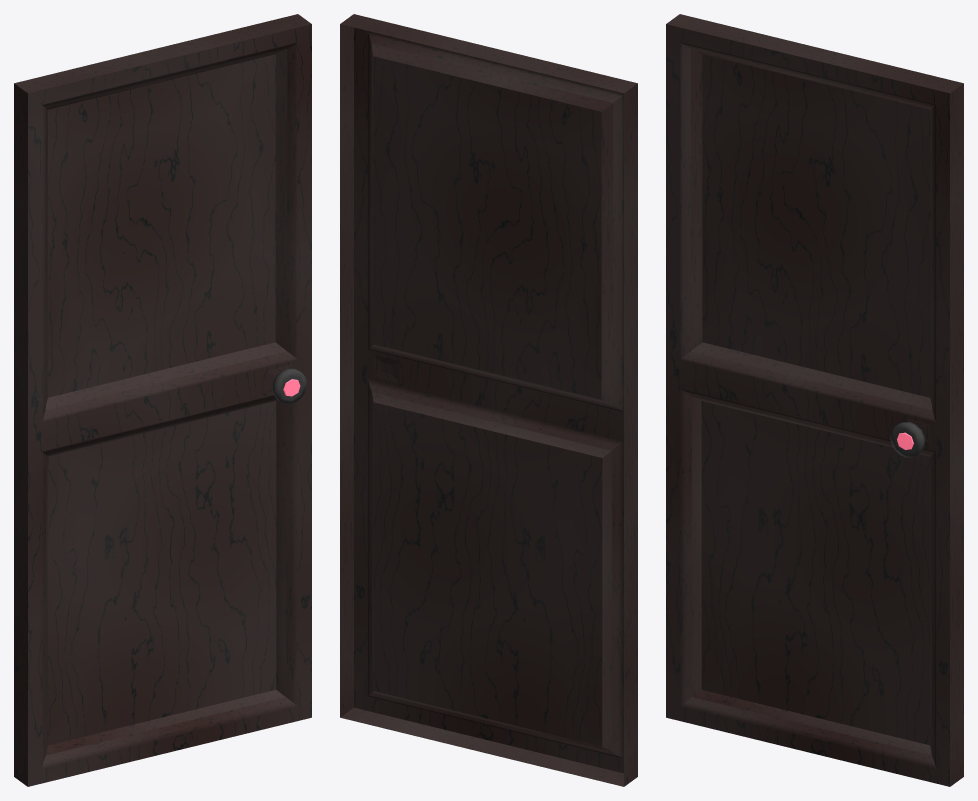
File: FancyDarkWoodenDoor.glb
3 renders of one model, left to right at view 1: azimuth 30°, elevation 25°; view 2: azimuth 150°, elevation 25°; view 3: azimuth 330°, elevation 25°, orthographic.
Parts seen in each view (by area): view 1: Door, DoorKnob; view 2: Door; view 3: Door, DoorKnob.
Part boxes in pixels (x1=…): Door: x1=14, y1=14, x2=311, y2=786; DoorKnob: x1=272, y1=368, x2=307, y2=404; Door: x1=340, y1=14, x2=637, y2=786; Door: x1=666, y1=14, x2=963, y2=786; DoorKnob: x1=890, y1=422, x2=925, y2=457.
Size of what is drawn, in the model's own units: 0.9 by 2.1 by 0.1465.
3 materials, 1 textured.
